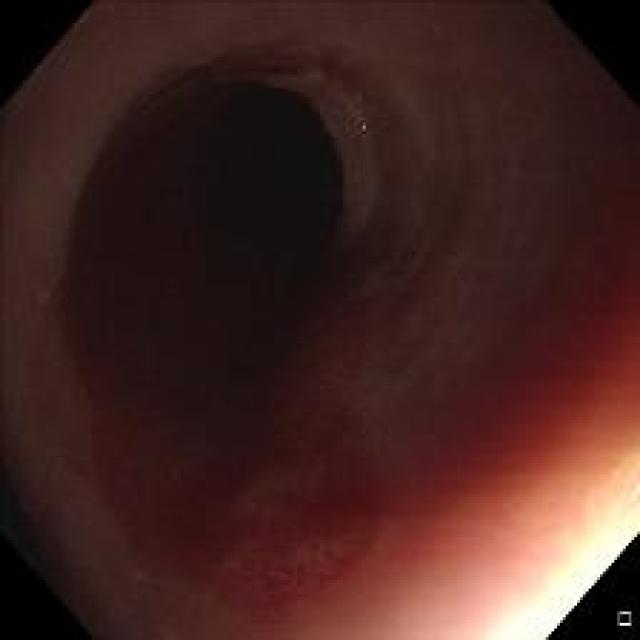contrast: (72, 59, 492, 550)
saturation: (499, 528, 632, 634)
